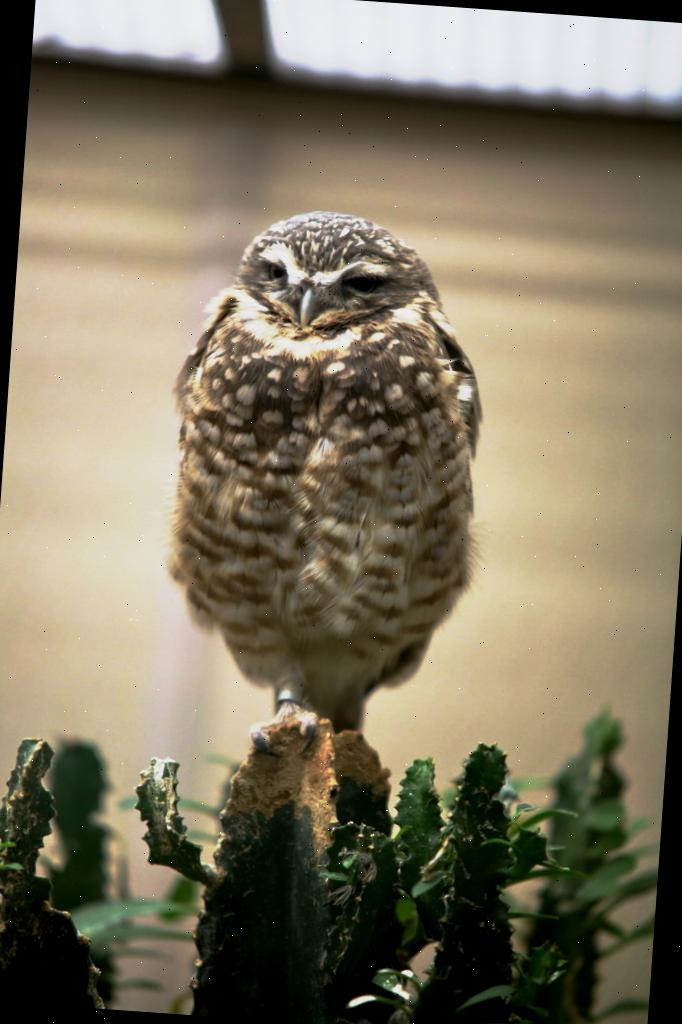Owl: (148, 194, 497, 777)
